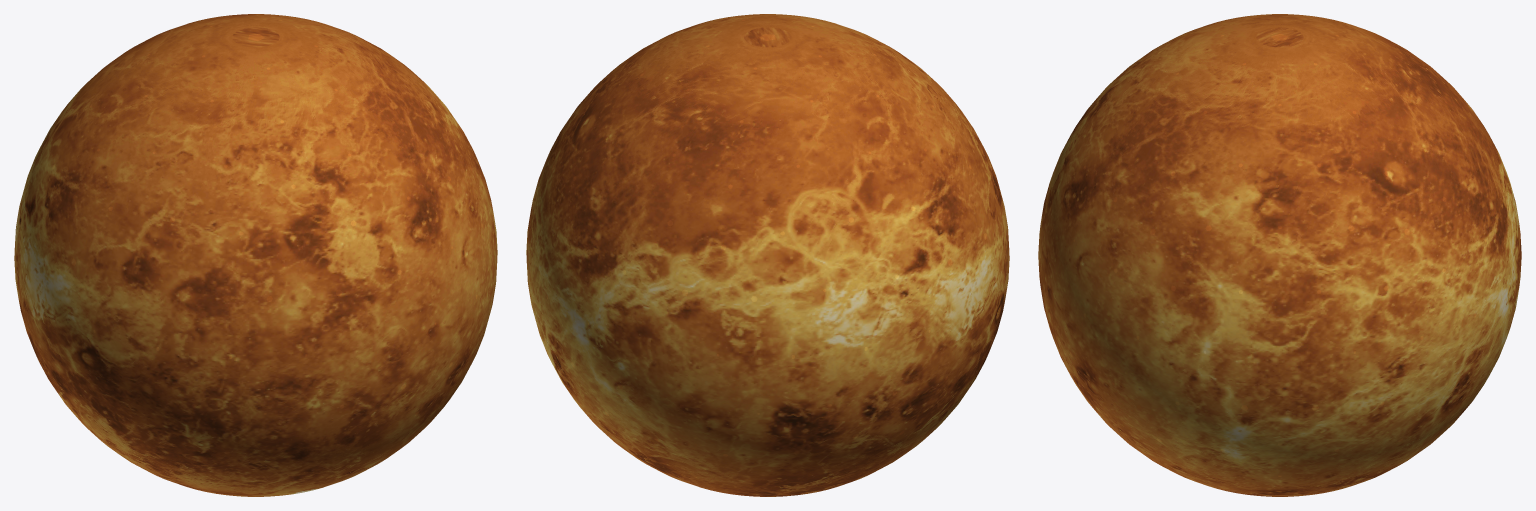
The model's file is Venus.glb.
3 views of the same model, side by side, from view 1: azimuth 30°, elevation 25°; view 2: azimuth 150°, elevation 25°; view 3: azimuth 270°, elevation 25° (orthographic).
Parts seen in each view (by area): view 1: Venus, Venus_Lod; view 2: Venus, Venus_Lod; view 3: Venus, Venus_Lod.
Part boxes in pixels (box(x1,y1,x2,y2)): Venus: box(14, 14, 497, 496); Venus_Lod: box(19, 20, 496, 490); Venus: box(526, 14, 1009, 496); Venus_Lod: box(527, 20, 1004, 490); Venus: box(1038, 14, 1521, 496); Venus_Lod: box(1048, 17, 1511, 495).
Size of the model in its own units: 2 by 2 by 2.
Materials: 2 (2 with a texture image).
